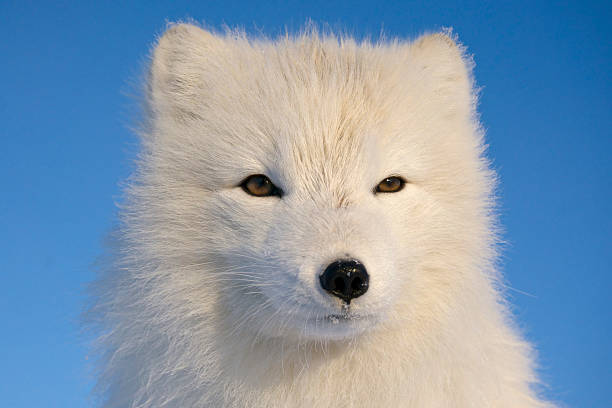arcticfox: (178, 71, 471, 365)
